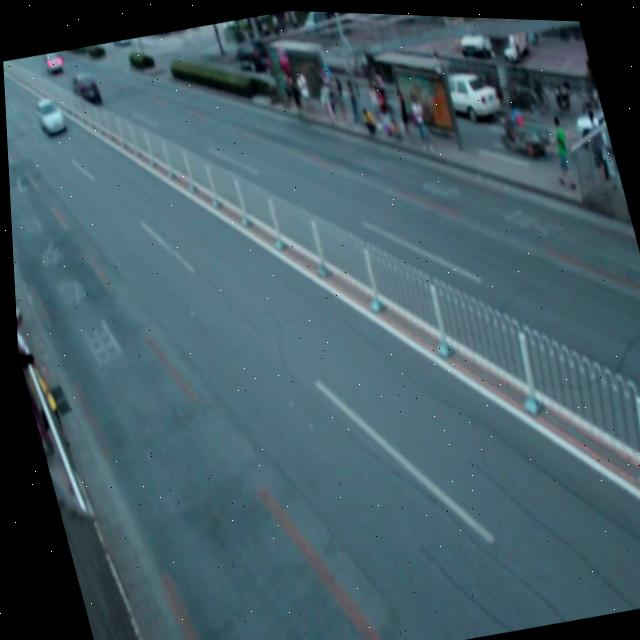car: (30, 95, 68, 138)
